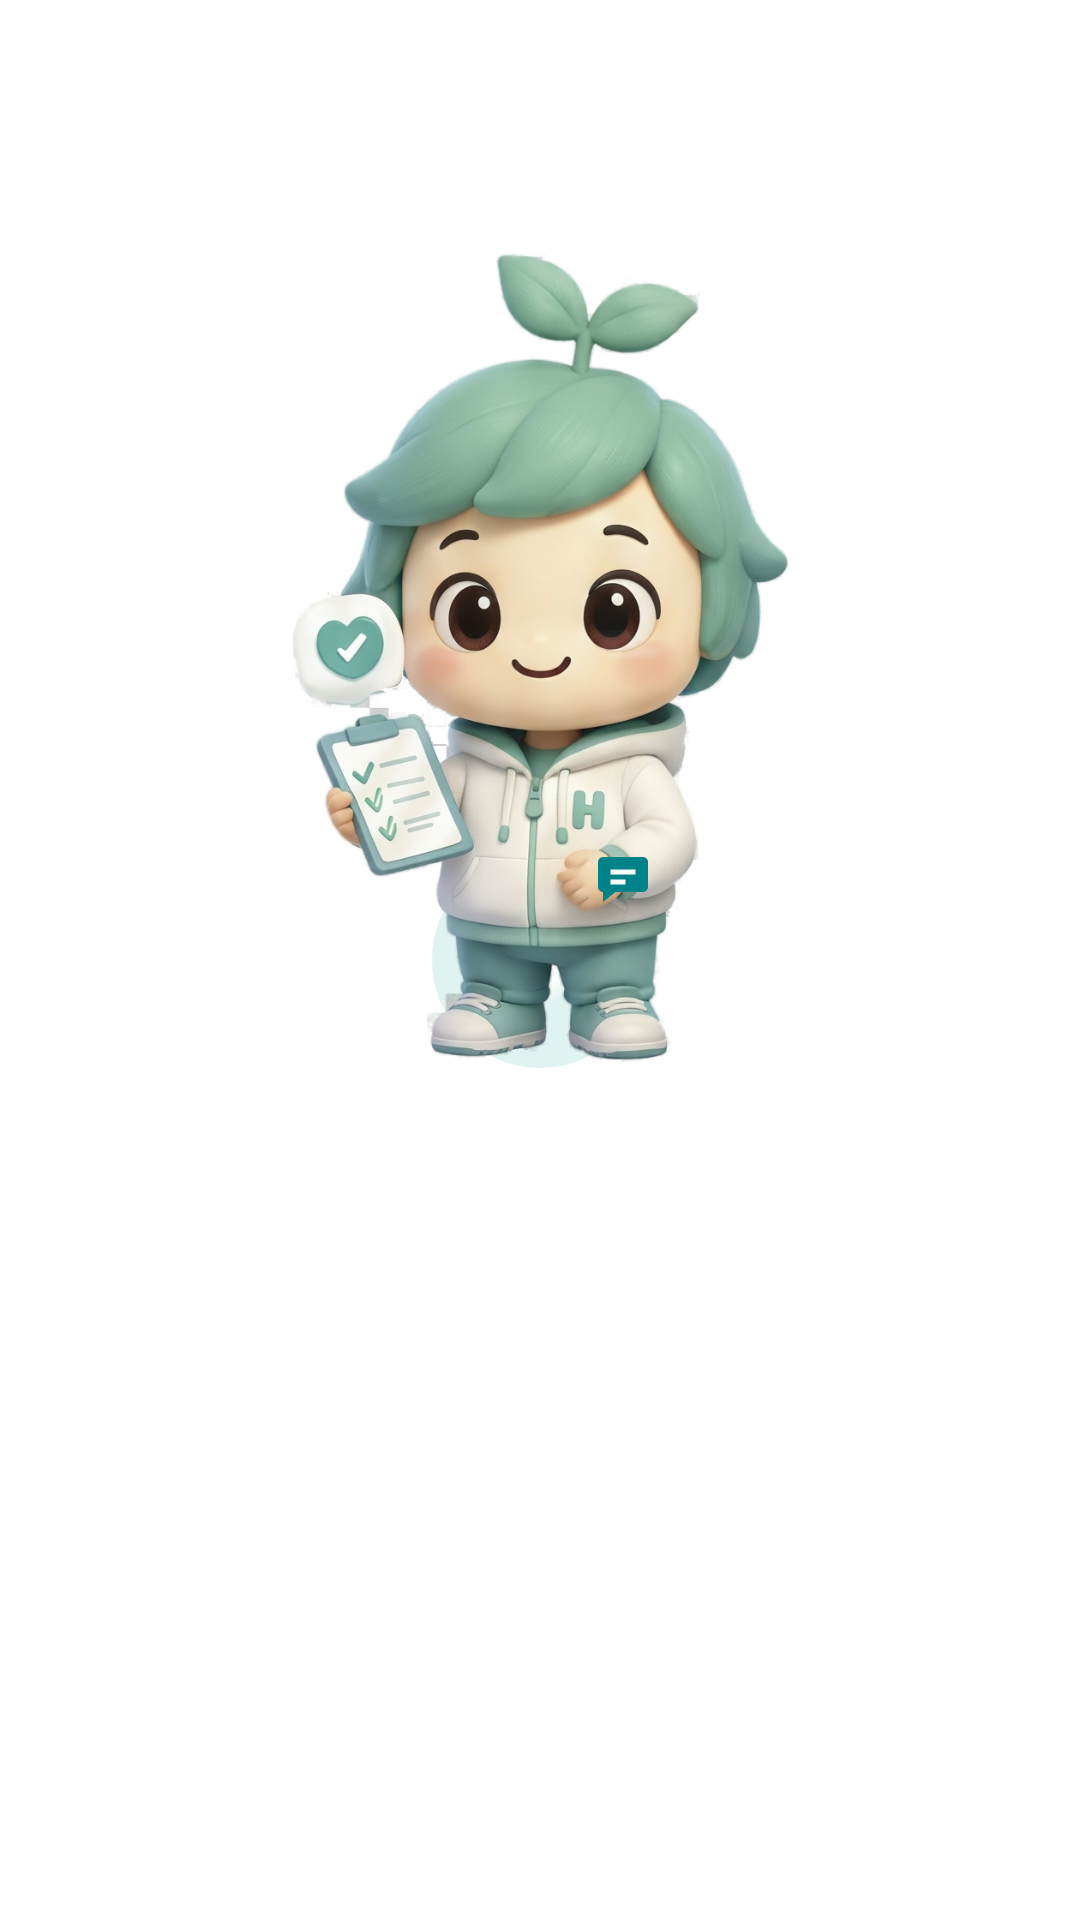

Point at icon controls on the screen. Image size 1080px×1920px, points as (x,y).
chat badge: (623,877)
